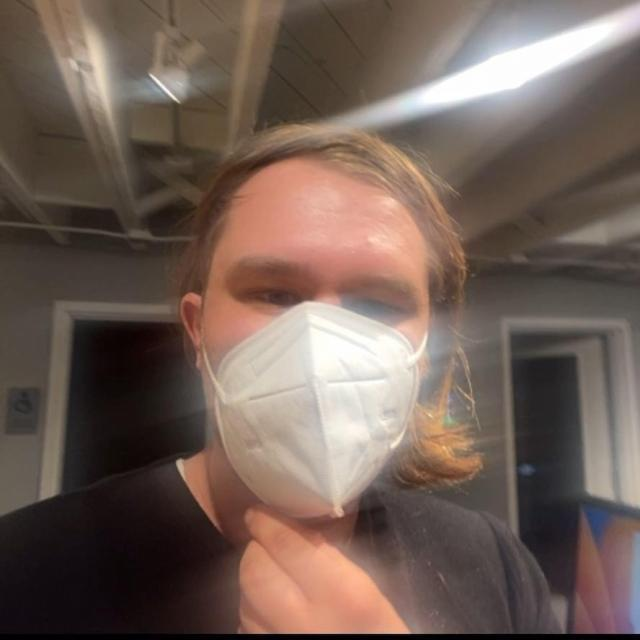no hat: (167, 110, 496, 512)
